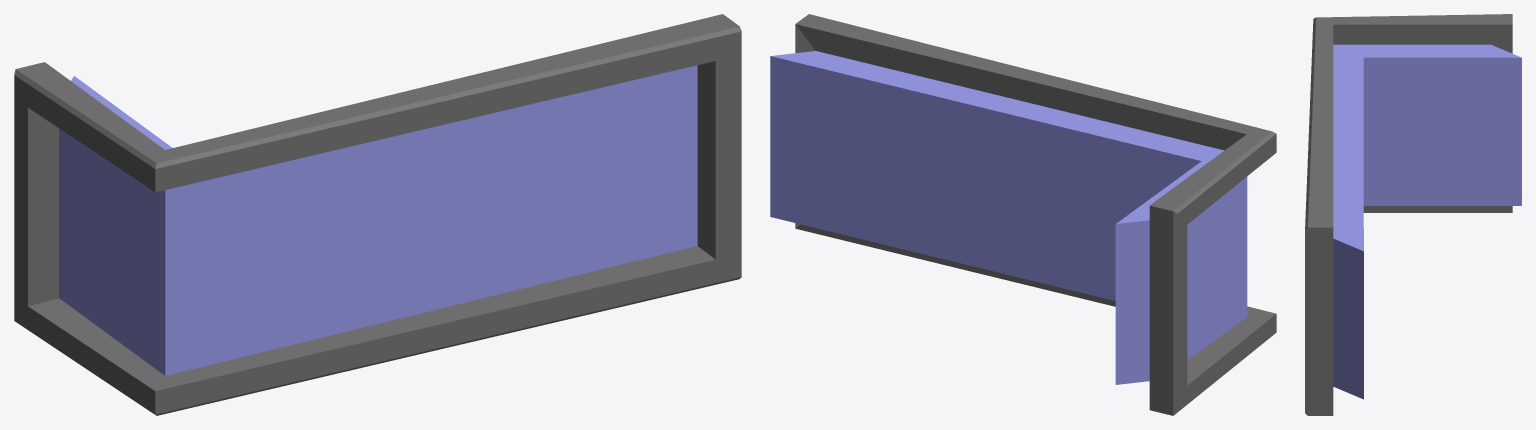
The model's file is window-corner.fbx.
3 renders of one model, left to right at view 1: azimuth 30°, elevation 25°; view 2: azimuth 150°, elevation 25°; view 3: azimuth 270°, elevation 25°, orthographic. The views are drawn at different scales.
Visible parts, largest first — view 1: window-corner-glass, window-corner-frame; view 2: window-corner-glass, window-corner-frame; view 3: window-corner-glass, window-corner-frame.
Part boxes in pixels (x1=…): window-corner-glass: x1=59, y1=65, x2=697, y2=375; window-corner-frame: x1=14, y1=14, x2=741, y2=415; window-corner-glass: x1=770, y1=51, x2=1247, y2=384; window-corner-frame: x1=795, y1=14, x2=1276, y2=415; window-corner-glass: x1=1333, y1=44, x2=1521, y2=399; window-corner-frame: x1=1305, y1=14, x2=1512, y2=415.
Size of the model in its own units: 183 by 73.66 by 76.87.
